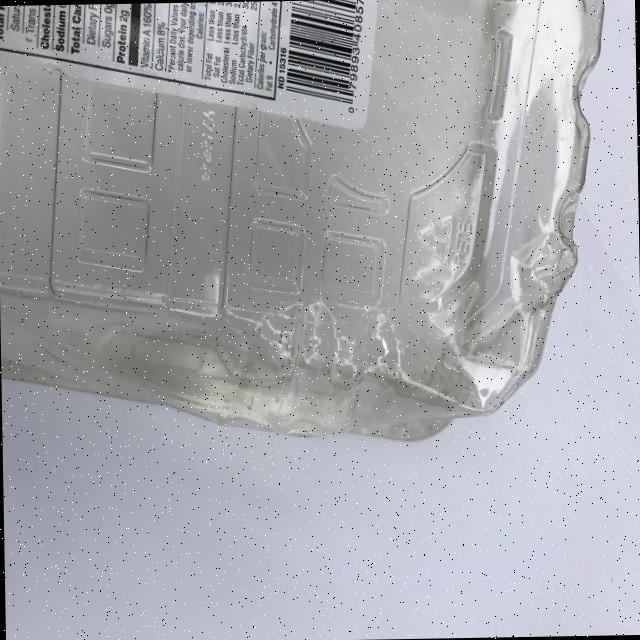plastic: (0, 0, 611, 448)
